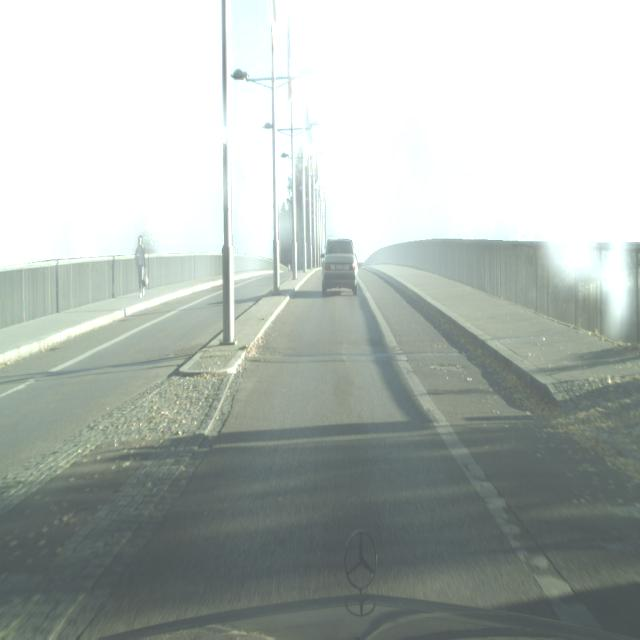bus: (318, 235, 360, 298)
person: (134, 235, 149, 297)
